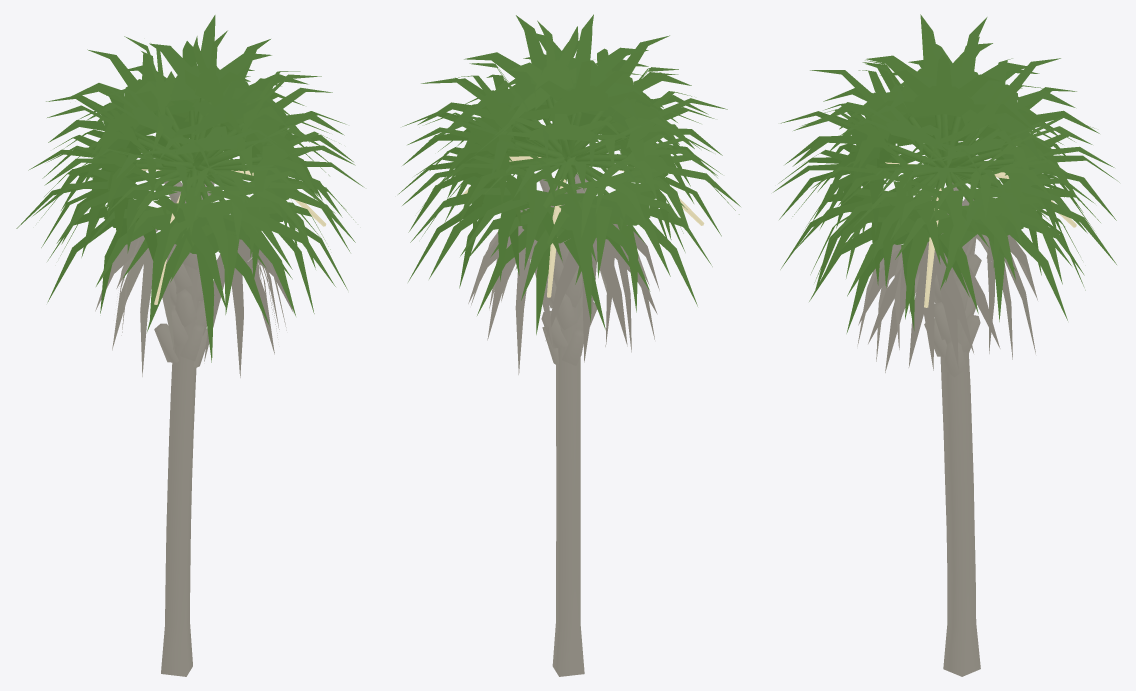
Rendered from Blender_CabbagePalm_1_Far.glb.
3 renders of one model, left to right at view 1: azimuth 30°, elevation 25°; view 2: azimuth 150°, elevation 25°; view 3: azimuth 270°, elevation 25°, orthographic.
Parts seen in each view (by area): view 1: Blender_CabbagePalm_1_Far; view 2: Blender_CabbagePalm_1_Far; view 3: Blender_CabbagePalm_1_Far.
Part boxes in pixels (x1=…): Blender_CabbagePalm_1_Far: x1=16, y1=15, x2=364, y2=676; Blender_CabbagePalm_1_Far: x1=398, y1=14, x2=740, y2=676; Blender_CabbagePalm_1_Far: x1=773, y1=14, x2=1119, y2=676.
Size of the model in its own units: 7.95 by 15.14 by 7.57.
